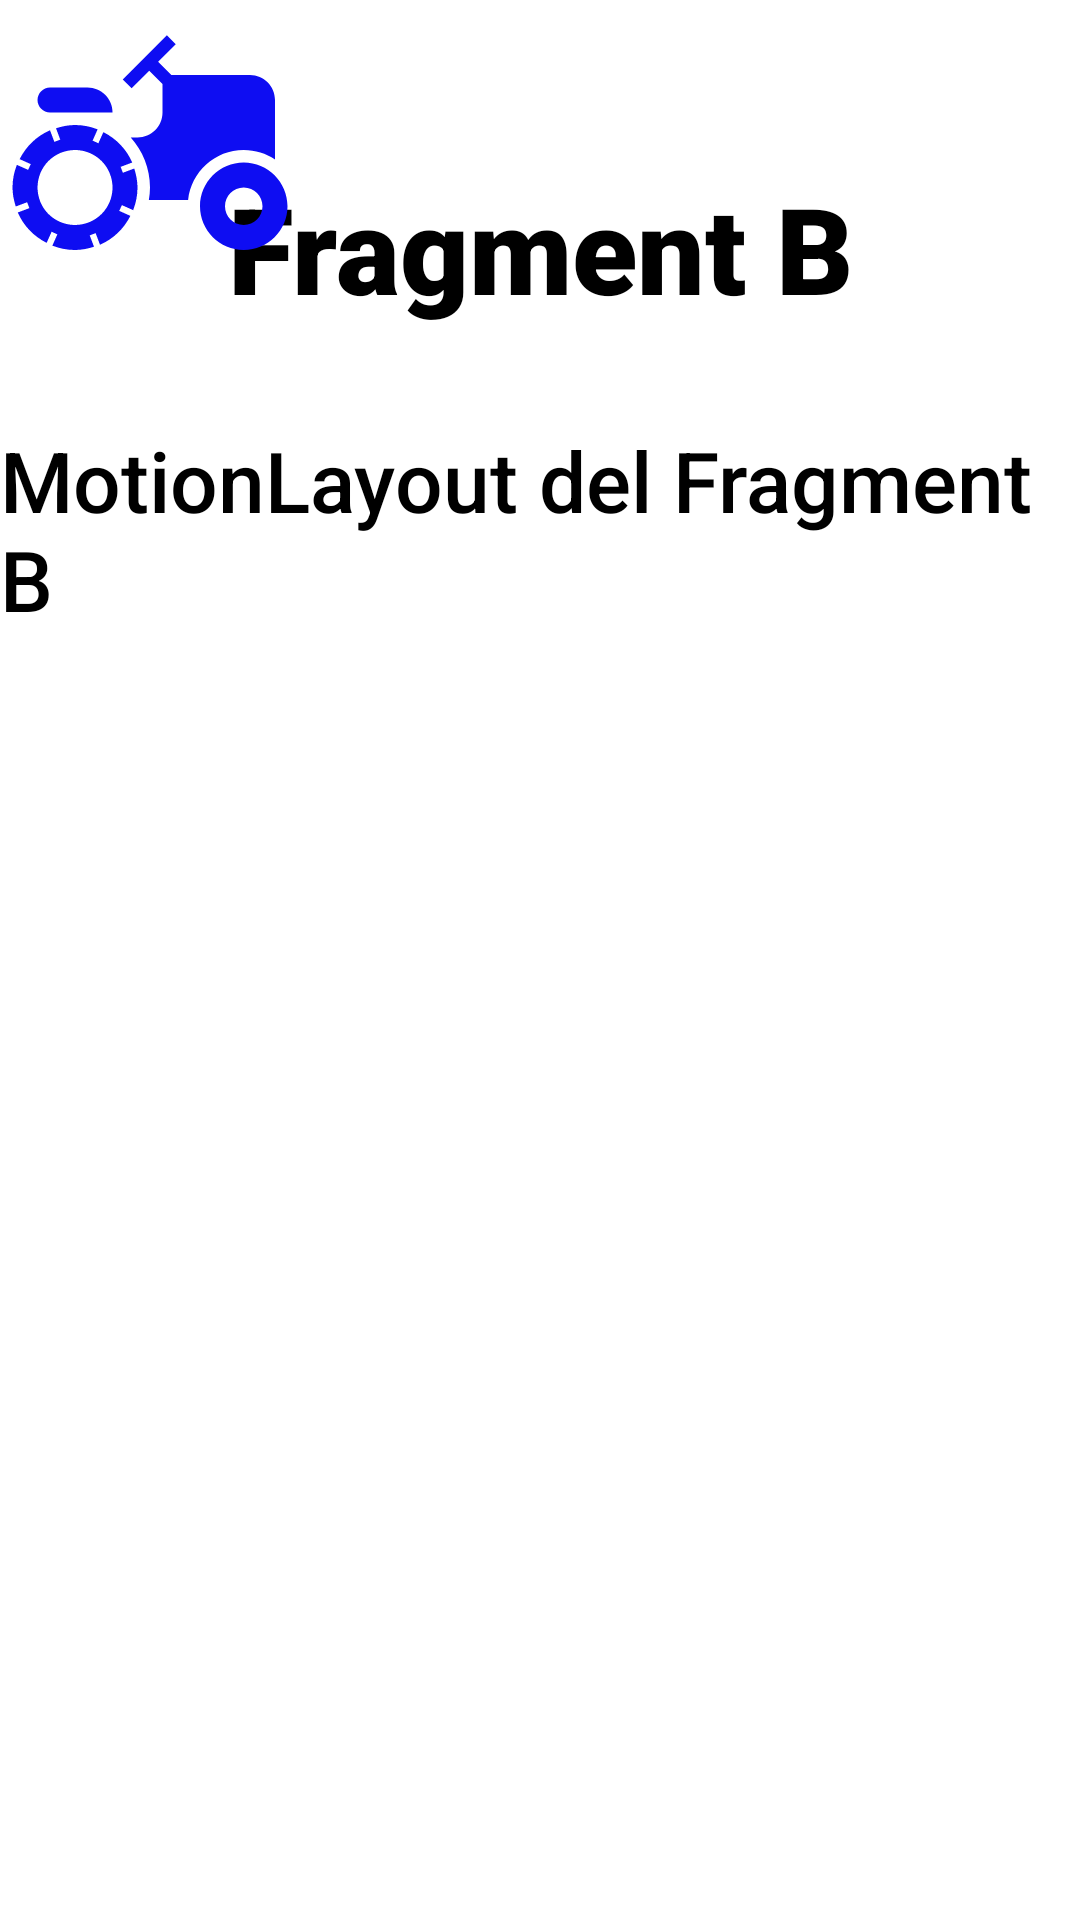

Icons on this 1080x1920 Android screen, each with its box as (x1, y1, x2, y2):
agriculture: (12, 35, 292, 295)
